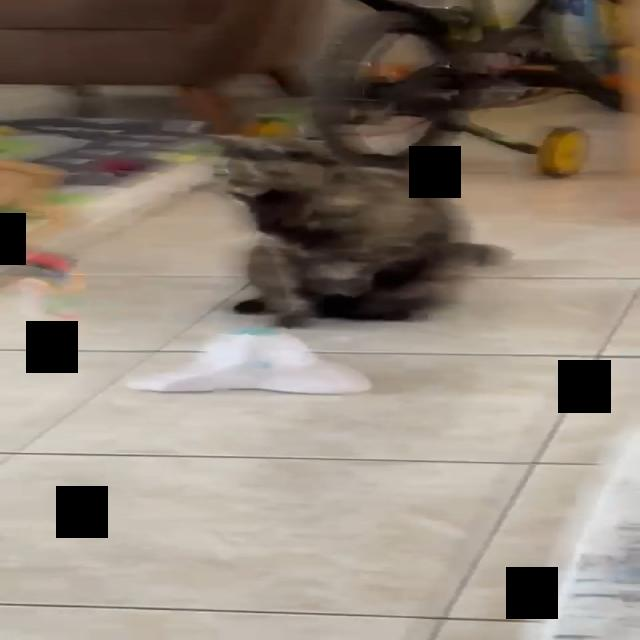authorized: (207, 132, 513, 328)
